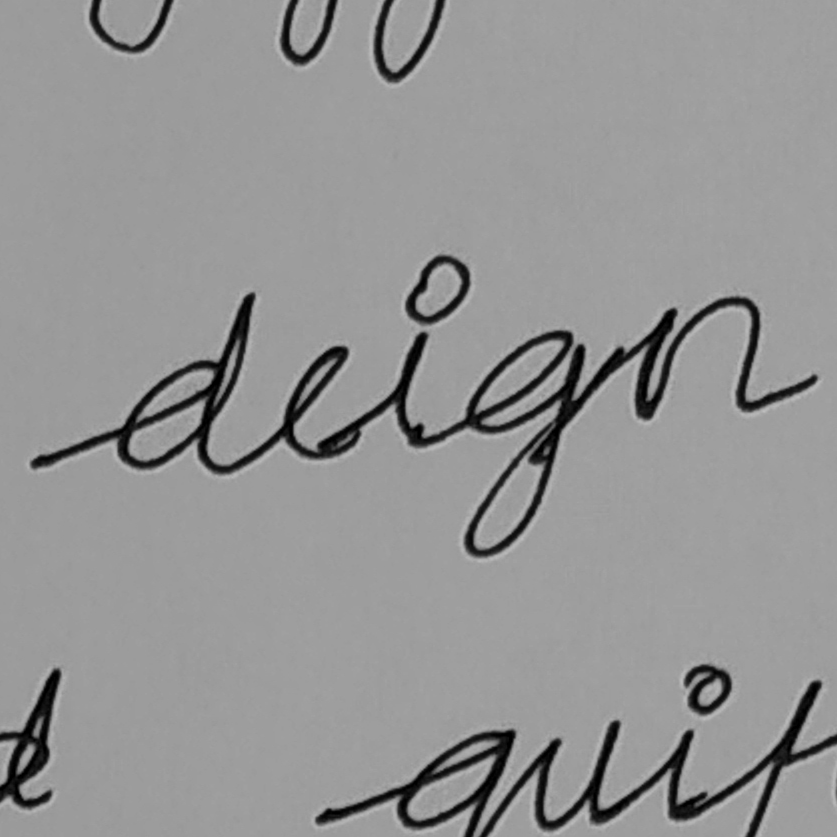d: (112, 288, 260, 478)
e: (276, 345, 364, 467)
g: (460, 325, 590, 560)
i: (383, 252, 473, 449)
n: (629, 290, 762, 422)
